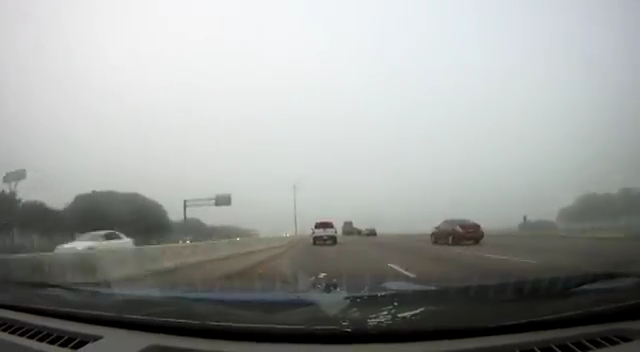bus: (342, 220, 355, 235)
car: (54, 230, 137, 264), (430, 218, 485, 246), (311, 221, 338, 246), (177, 236, 196, 250), (365, 228, 378, 236)
